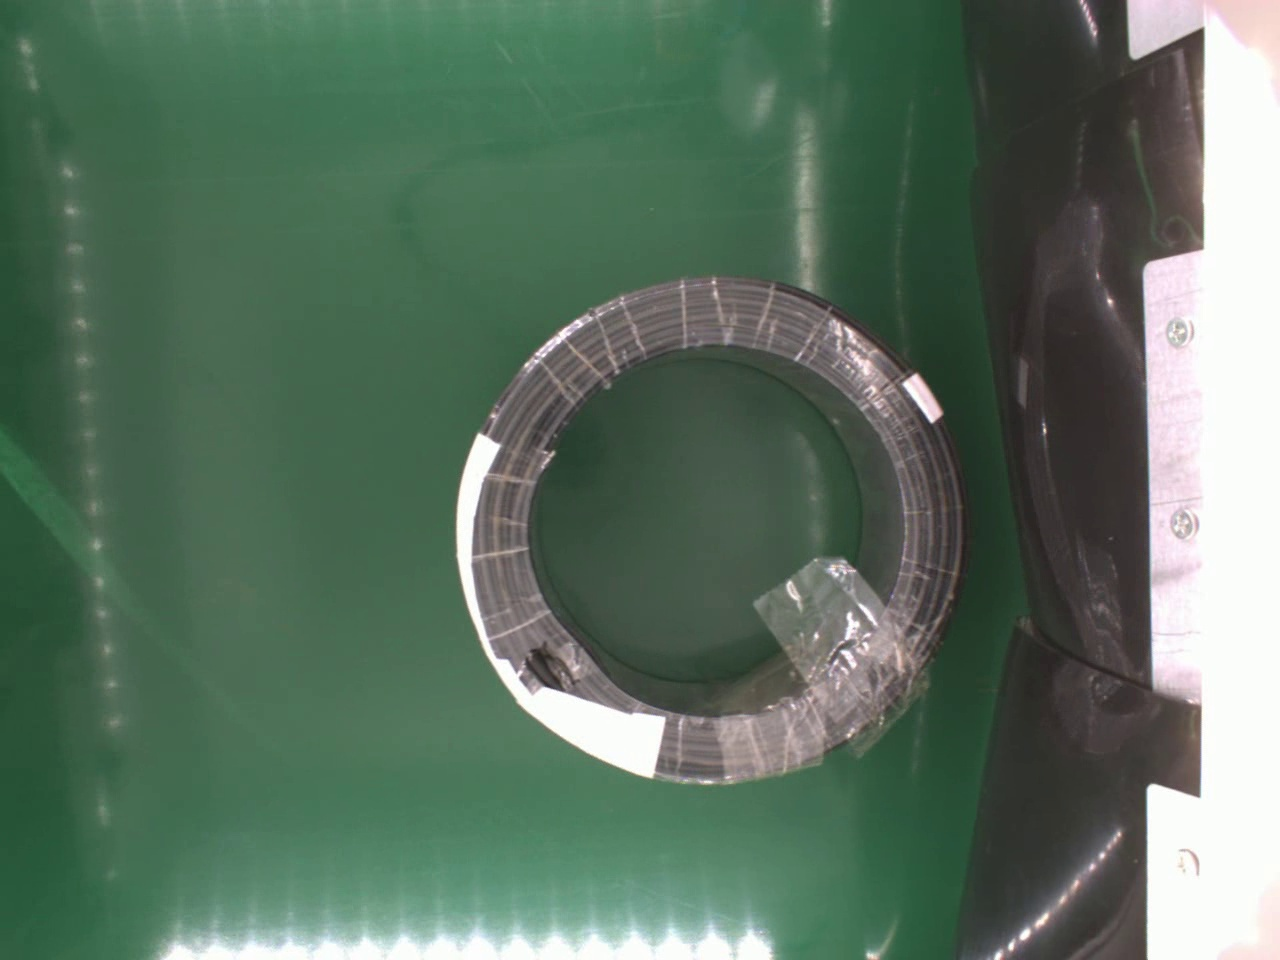black: (453, 269, 977, 791)
